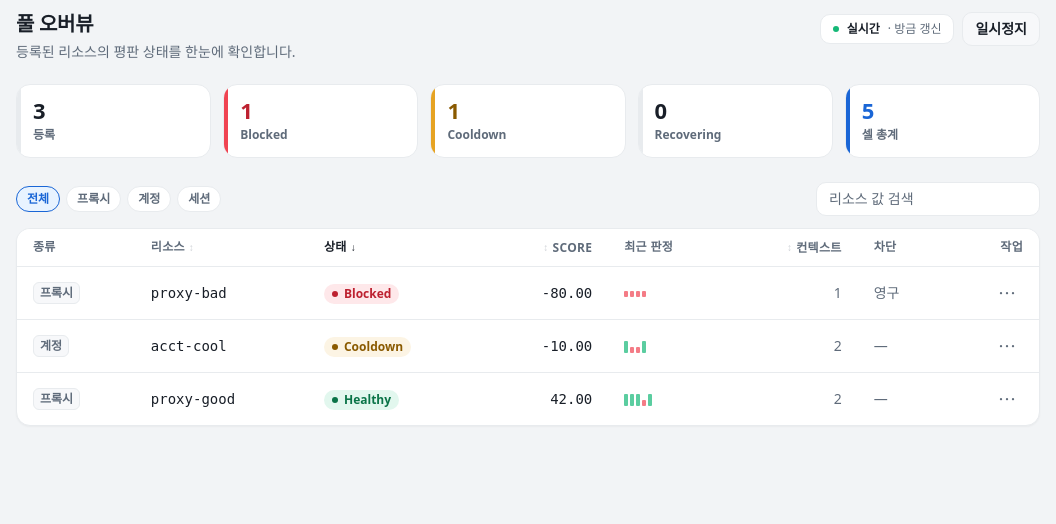
Test case: 풀 오버뷰 화면 (integration + MSW) › 행의 작업 메뉴를 열면 상세로 이동하지 않는다
This screenshot has width=1056, height=524.
Expected: the link "proxy-good" is shown, [151,391,235,407]
메뉴 td 는 stopPropagation 으로 행 클릭과 분리돼 있다 — 이게 깨지면 메뉴를 누를 때마다 화면이 튄다.
Click the button named "proxy-good 작업 메뉴 열기".
click(1007, 399)  # box [991,383,1023,415]
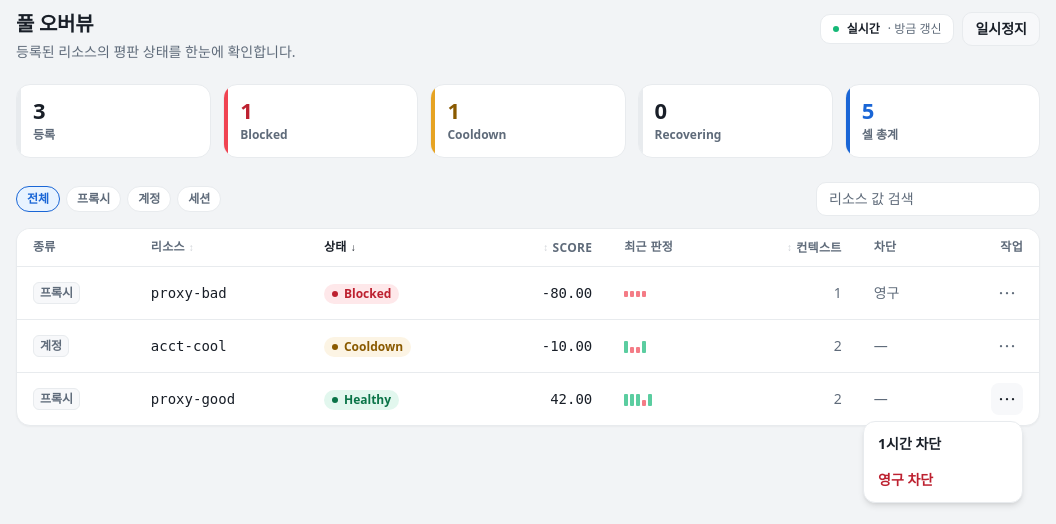
Expected: the menu item "영구 차단" is shown, [878,470,933,489]
